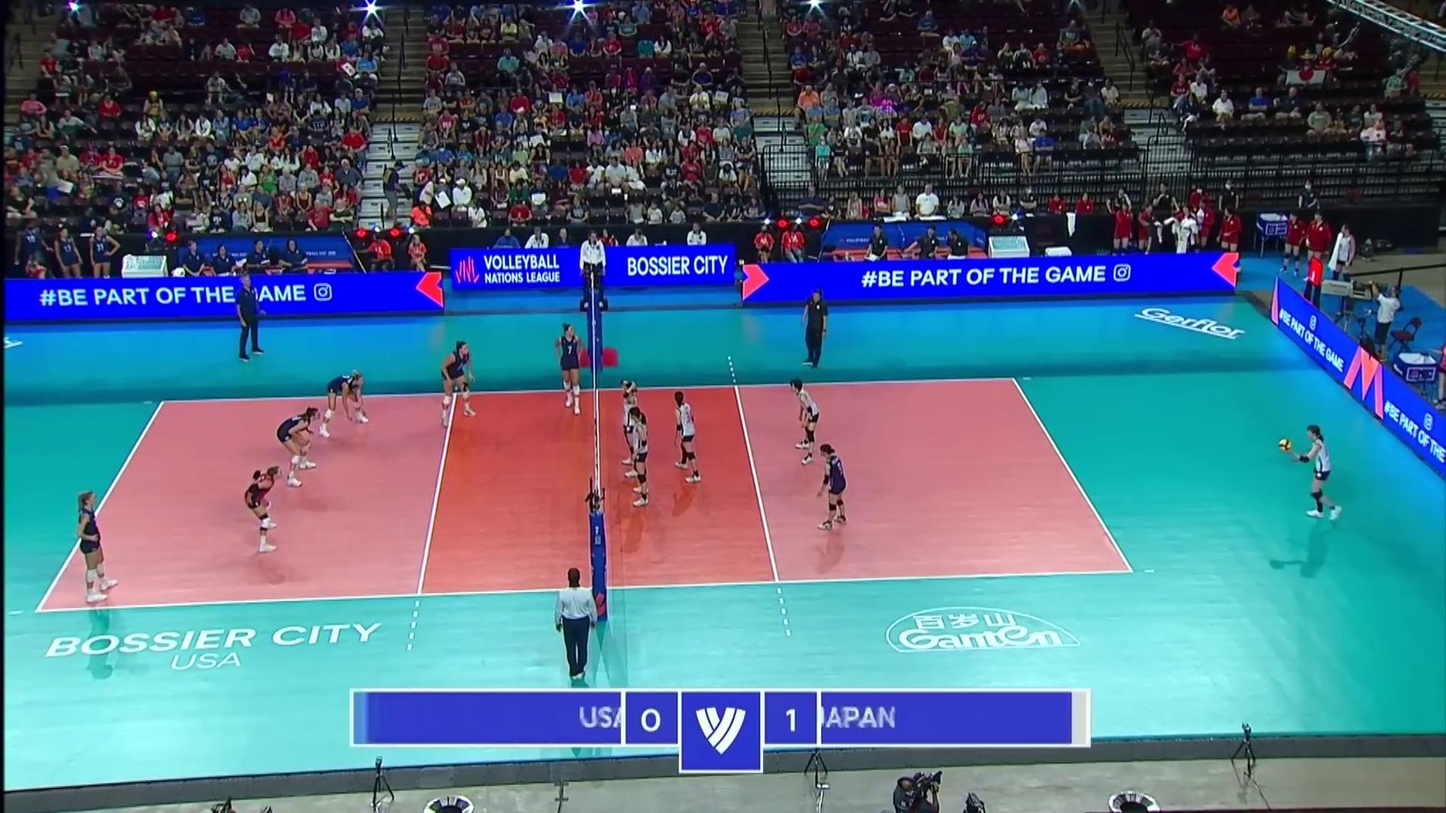player: (74, 491, 122, 604), (1285, 425, 1342, 517), (244, 465, 282, 554), (628, 408, 662, 506), (279, 404, 320, 485), (438, 342, 477, 424), (812, 446, 849, 531), (791, 379, 827, 466), (672, 391, 704, 487), (323, 371, 371, 432), (555, 323, 585, 416), (619, 378, 645, 479)
refree: (557, 570, 602, 685), (578, 229, 610, 311)
